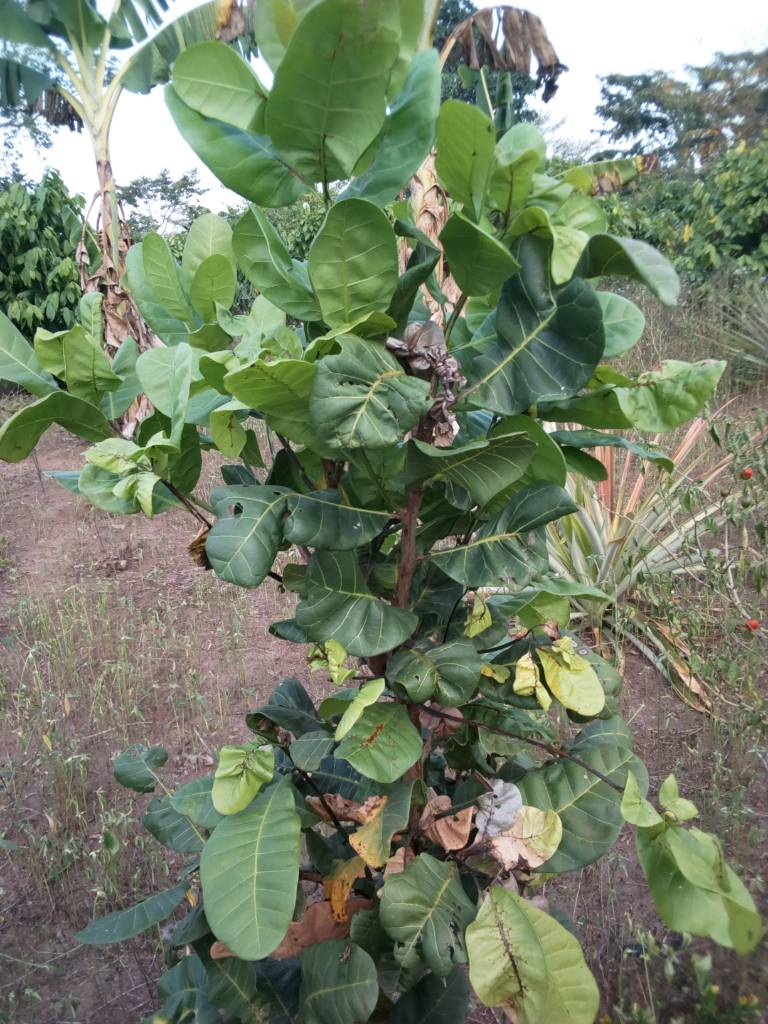Dessèchement des bourgeons: (427, 330, 463, 442)
